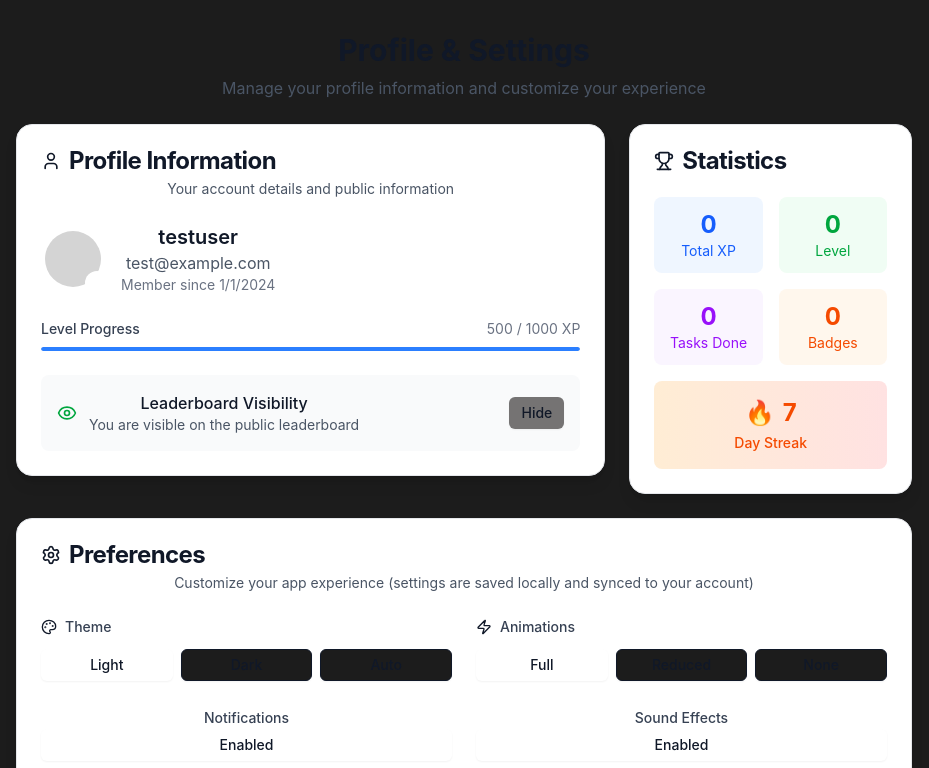
Test case: Profile › Loading States › shows saving state during preferences update
This screenshot has width=929, height=768.
Change a preference
Click the button "dark": (247, 665) [181,649,312,681]
(page scrolled)
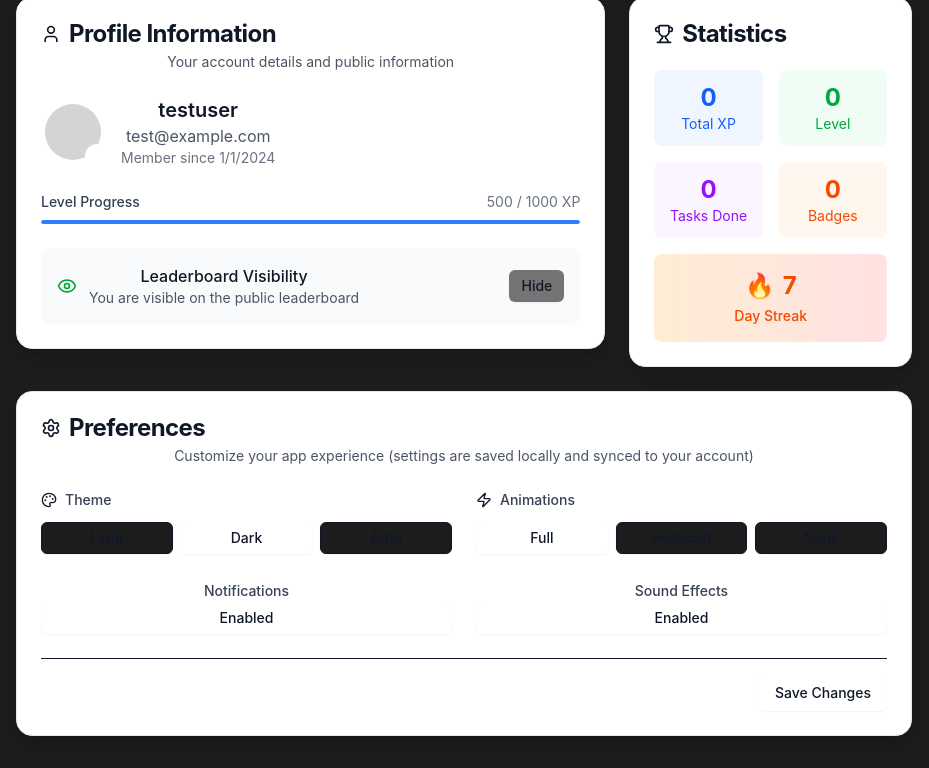
Click save
Click the button "Save Changes": (823, 693) [759,675,887,711]
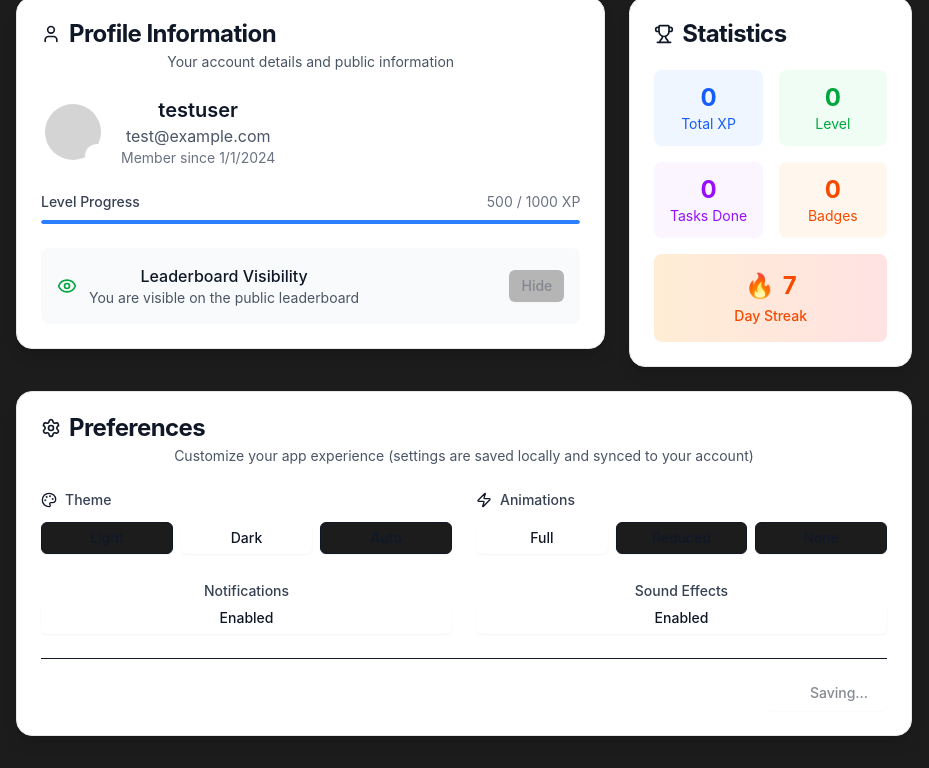
Expected: the text "Saving..." is shown, [786,683,868,703]
